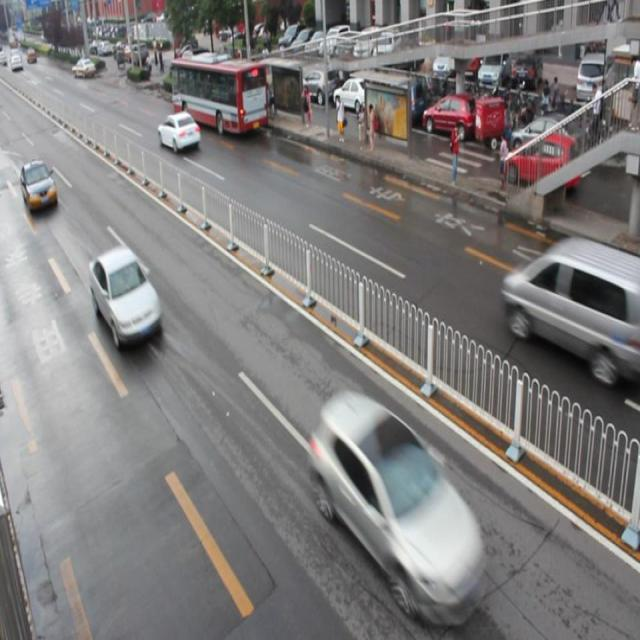car: (310, 390, 483, 598), (88, 243, 161, 345), (20, 158, 58, 214), (157, 110, 201, 153)
truck: (504, 235, 640, 382)
van: (171, 56, 267, 134)
